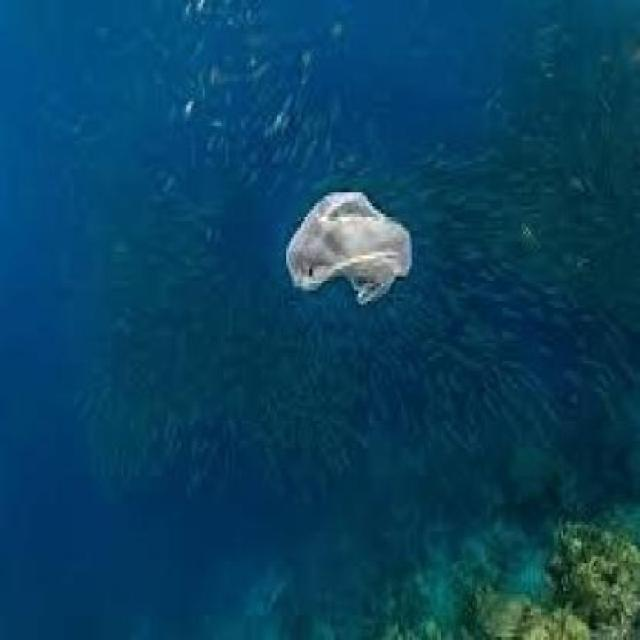pbag: (284, 189, 411, 305)
